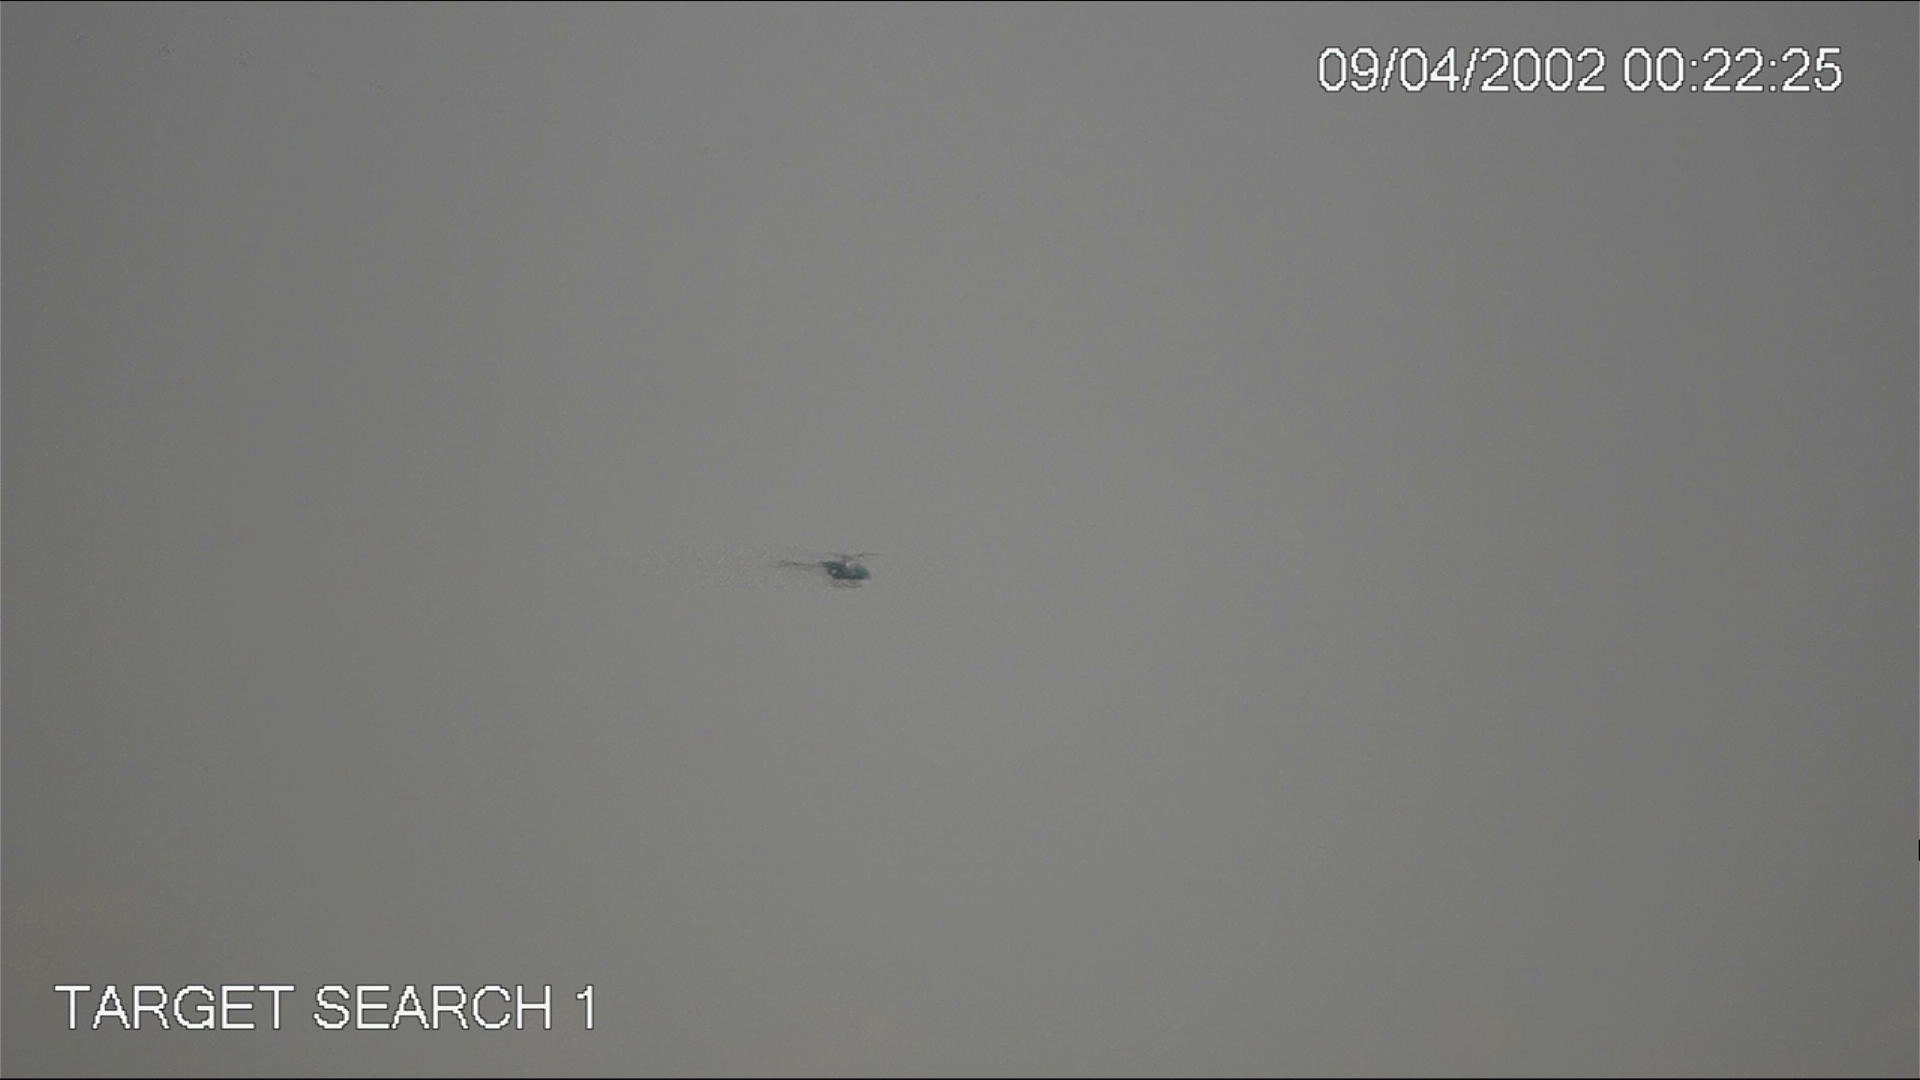SU_30: (771, 539, 878, 593)
